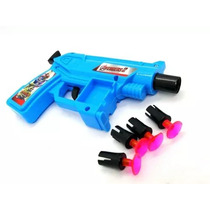Arma Falsa: (5, 49, 182, 131)
